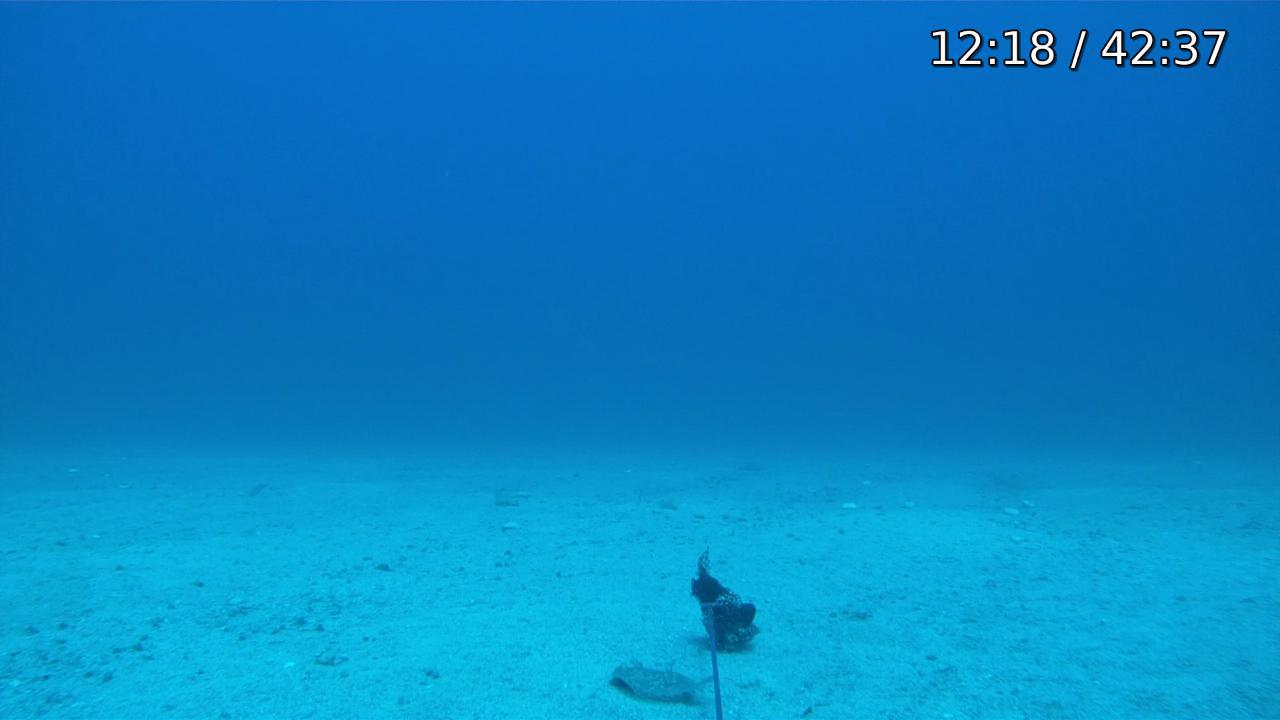bothus: (606, 653, 716, 706)
